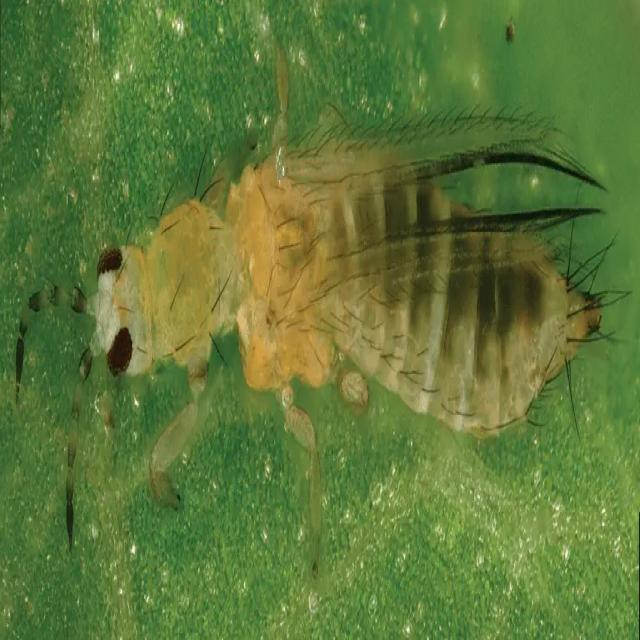Thrip-Adult-: (82, 104, 618, 507)
